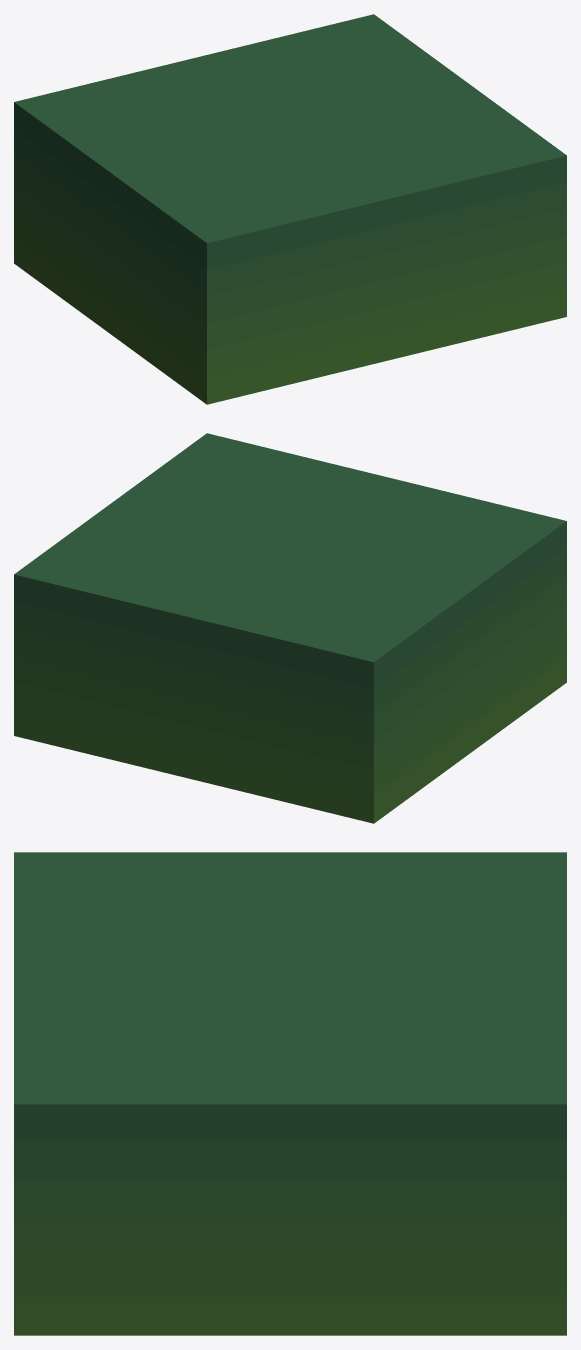
File: Spine077.fbx
The picture shows the model from 3 angles, top to bottom: view 1: azimuth 30°, elevation 25°; view 2: azimuth 150°, elevation 25°; view 3: azimuth 270°, elevation 25°; orthographic projection. The views are drawn at different scales.
Visible parts, largest first — view 1: Spine077; view 2: Spine077; view 3: Spine077.
Boxes of the visible parts, x1,y1,x2,y2 form: Spine077: (14, 14, 566, 404); Spine077: (14, 433, 566, 823); Spine077: (14, 852, 566, 1335).
Bounding box in the file's own units: 14 × 6 × 13.
